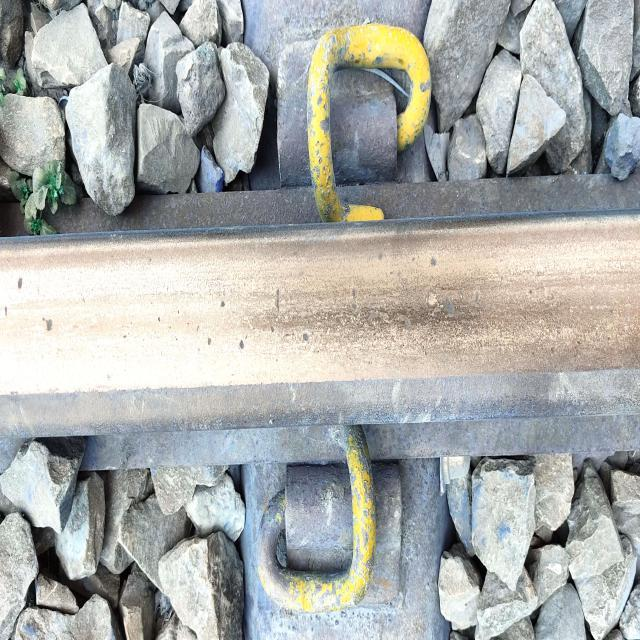Good Fasteners: (246, 21, 450, 231), (246, 402, 424, 627)
